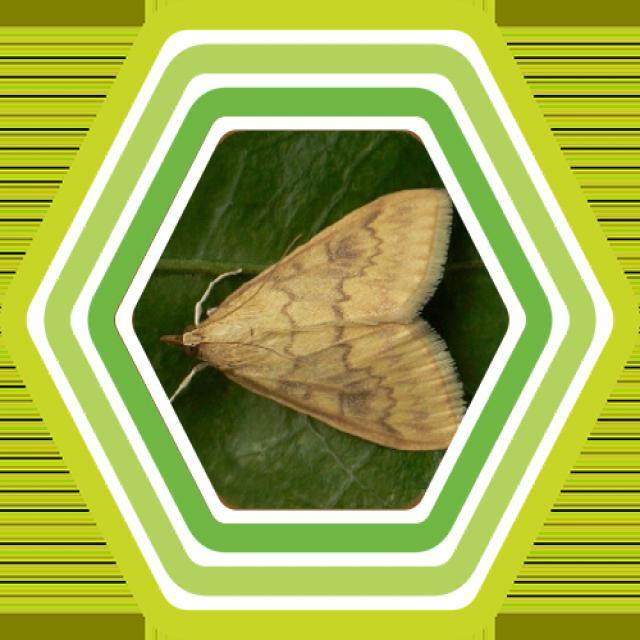cornborer-Adult-: (179, 174, 478, 465)
